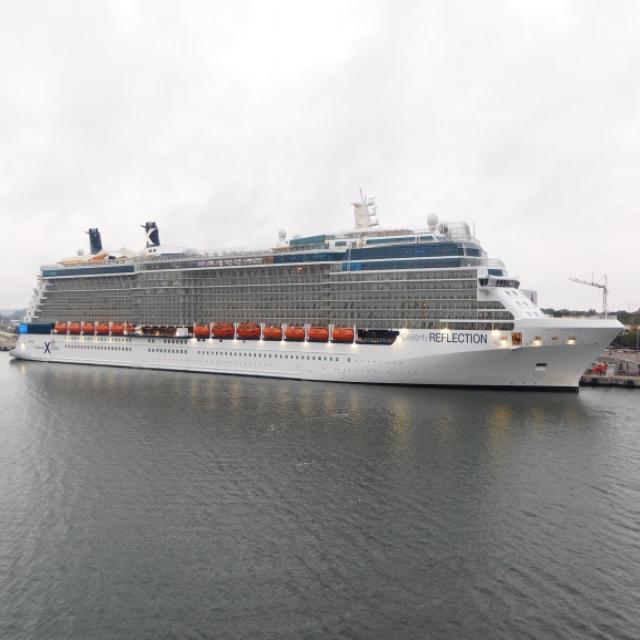cruises: (8, 193, 629, 401)
